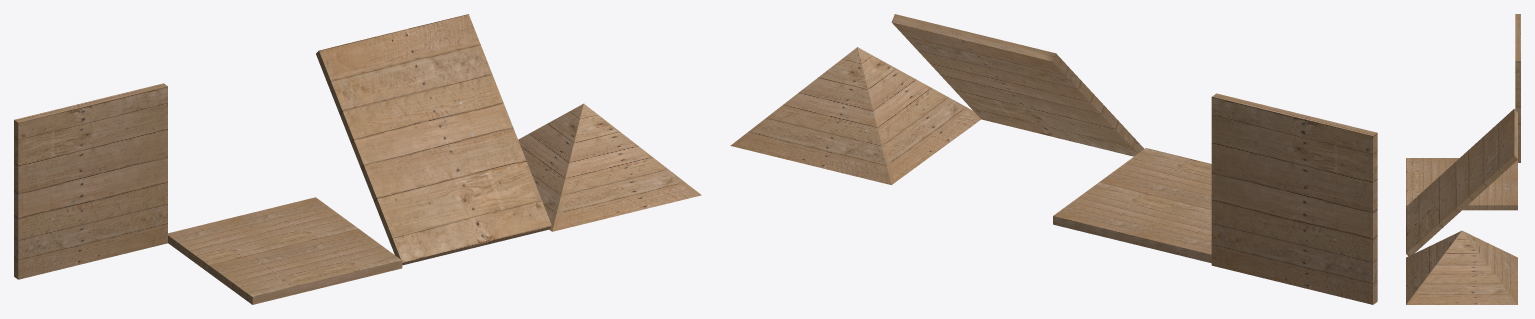
Rendered from structures.glb.
The picture shows the model from 3 angles, left to right: view 1: azimuth 30°, elevation 25°; view 2: azimuth 150°, elevation 25°; view 3: azimuth 270°, elevation 25°; orthographic projection. The views are drawn at different scales.
Visible parts, largest first — view 1: stair, wall, floor, ceiling; view 2: wall, ceiling, stair, floor; view 3: ceiling, stair, floor, wall.
Part boxes in pixels (<box>): stair: <box>316,14,551,265</box>; wall: <box>14,83,167,279</box>; floor: <box>168,197,402,304</box>; ceiling: <box>518,103,701,231</box>; wall: <box>1211,93,1377,304</box>; ceiling: <box>730,47,980,184</box>; stair: <box>891,14,1144,156</box>; floor: <box>1053,148,1211,263</box>; ceiling: <box>1406,230,1517,304</box>; stair: <box>1406,109,1517,256</box>; floor: <box>1406,158,1517,210</box>; wall: <box>1515,14,1520,162</box>.
Bounding box in the file's own units: 16 × 4 × 4.1.
Materials: 1 (1 with a texture image).
